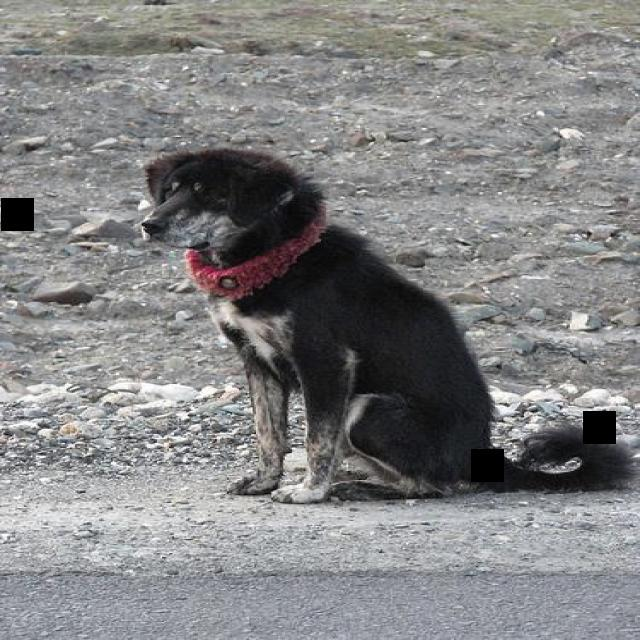adult_dog: (134, 147, 637, 508)
